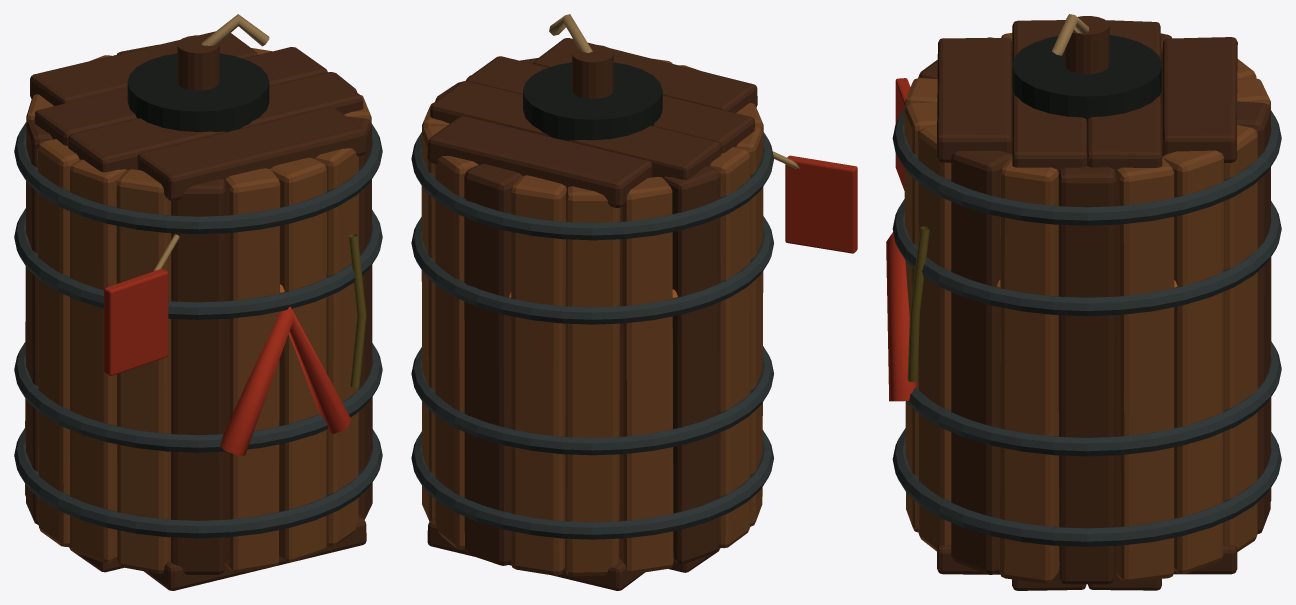
File: barrel_flammable_intact.glb
The picture shows the model from 3 angles, left to right: view 1: azimuth 30°, elevation 25°; view 2: azimuth 150°, elevation 25°; view 3: azimuth 270°, elevation 25°; orthographic projection. The views are drawn at different scales.
Visible parts, largest first — view 1: BarrelIntactStave.012, BarrelIntactStave.013, BarrelIntactStave.010, BarrelIntactStave.011, BarrelIntactStave.014, BarrelIntactStave.009, BarrelIntactTopPlank, BarrelIntactStave.015, BarrelPitchSealedHatch, BarrelIronHoop, BarrelIronHoop.003, BarrelIntactTopPlank.001 (+13 smaller); view 2: BarrelIntactStave.005, BarrelIntactStave.006, BarrelIntactStave.007, BarrelIntactStave.004, BarrelIntactStave.008, BarrelIntactStave.009, BarrelIntactStave.003, BarrelIntactTopPlank.003, BarrelPitchSealedHatch, BarrelIronHoop, BarrelIronHoop.001, BarrelIronHoop.002 (+10 smaller); view 3: BarrelIntactStave.017, BarrelIntactStave.001, BarrelIntactStave, BarrelIntactStave.002, BarrelIntactStave.016, BarrelIntactStave.003, BarrelIntactStave.015, BarrelPitchSealedHatch, BarrelIntactTopPlank, BarrelIntactTopPlank.003, BarrelIronHoop, BarrelIronHoop.003 (+17 smaller).
Part boxes in pixels (left/top/right/bottom): BarrelIntactStave.012: left=171, top=179, right=225, bottom=574; BarrelIntactStave.013: left=224, top=168, right=280, bottom=572; BarrelIntactStave.010: left=70, top=159, right=126, bottom=562; BarrelIntactStave.011: left=116, top=169, right=171, bottom=573; BarrelIntactStave.014: left=270, top=157, right=326, bottom=562; BarrelIntactStave.009: left=37, top=139, right=79, bottom=546; BarrelIntactTopPlank: left=137, top=107, right=366, bottom=200; BarrelIntactStave.015: left=315, top=148, right=358, bottom=546; BarrelPitchSealedHatch: left=127, top=53, right=269, bottom=131; BarrelIronHoop: left=14, top=428, right=382, bottom=538; BarrelIronHoop.003: left=14, top=122, right=382, bottom=234; BarrelIntactTopPlank.001: left=68, top=72, right=363, bottom=172; BarrelIntactStave.005: left=511, top=175, right=566, bottom=575; BarrelIntactStave.006: left=565, top=186, right=620, bottom=576; BarrelIntactStave.007: left=619, top=176, right=673, bottom=574; BarrelIntactStave.004: left=464, top=163, right=522, bottom=565; BarrelIntactStave.008: left=663, top=166, right=720, bottom=563; BarrelIntactStave.009: left=709, top=147, right=750, bottom=548; BarrelIntactStave.003: left=434, top=156, right=478, bottom=549; BarrelIntactTopPlank.003: left=427, top=116, right=652, bottom=207; BarrelPitchSealedHatch: left=523, top=62, right=662, bottom=140; BarrelIronHoop: left=411, top=430, right=773, bottom=539; BarrelIronHoop.001: left=411, top=346, right=773, bottom=455; BarrelIronHoop.002: left=411, top=216, right=773, bottom=324; BarrelIntactStave.017: left=999, top=156, right=1059, bottom=583; BarrelIntactStave.001: left=1115, top=157, right=1174, bottom=582; BarrelIntactStave: left=1058, top=166, right=1116, bottom=584; BarrelIntactStave.002: left=1162, top=150, right=1223, bottom=573; BarrelIntactStave.016: left=951, top=150, right=1012, bottom=574; BarrelIntactStave.003: left=1223, top=124, right=1257, bottom=552; BarrelIntactStave.015: left=918, top=125, right=951, bottom=551; BarrelPitchSealedHatch: left=1012, top=35, right=1161, bottom=120; BarrelIntactTopPlank: left=937, top=38, right=1012, bottom=162; BarrelIntactTopPlank.003: left=1163, top=37, right=1237, bottom=162; BarrelIronHoop: left=892, top=428, right=1281, bottom=546; BarrelIronHoop.003: left=892, top=108, right=1281, bottom=225.
Size of the model in its own units: 0.8303 by 1.17 by 0.793.
